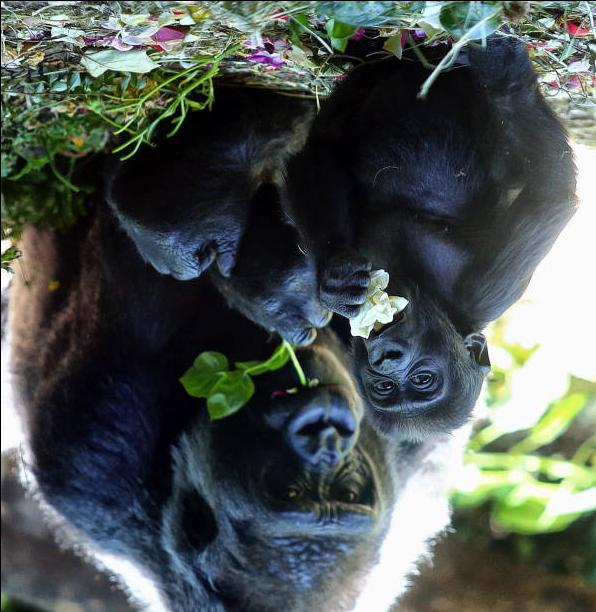gorille_Autres: (7, 316, 400, 612), (298, 29, 562, 447)
